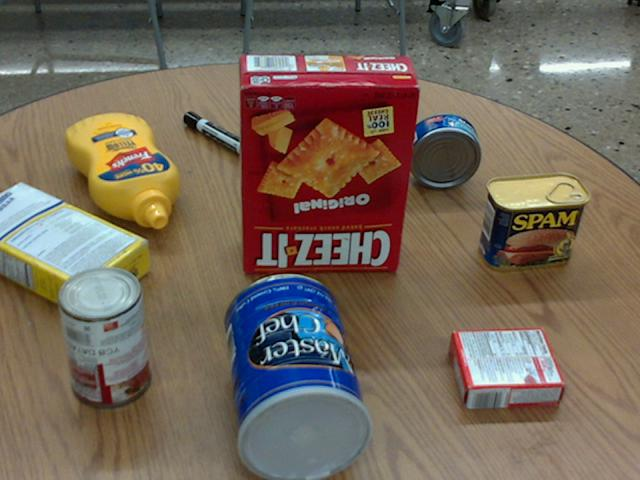cracker_box: (235, 54, 420, 273)
gelatin_box: (447, 326, 565, 407)
large_marker: (182, 111, 256, 158)
master_chef_can: (223, 273, 373, 479)
mug: (267, 59, 357, 148)
mustard_bottle: (65, 113, 178, 227)
potted_meat_can: (478, 172, 589, 271)
sugar_box: (0, 178, 149, 319)
tomato_soup_can: (57, 264, 151, 407)
tuna_fish_can: (404, 113, 480, 188)
